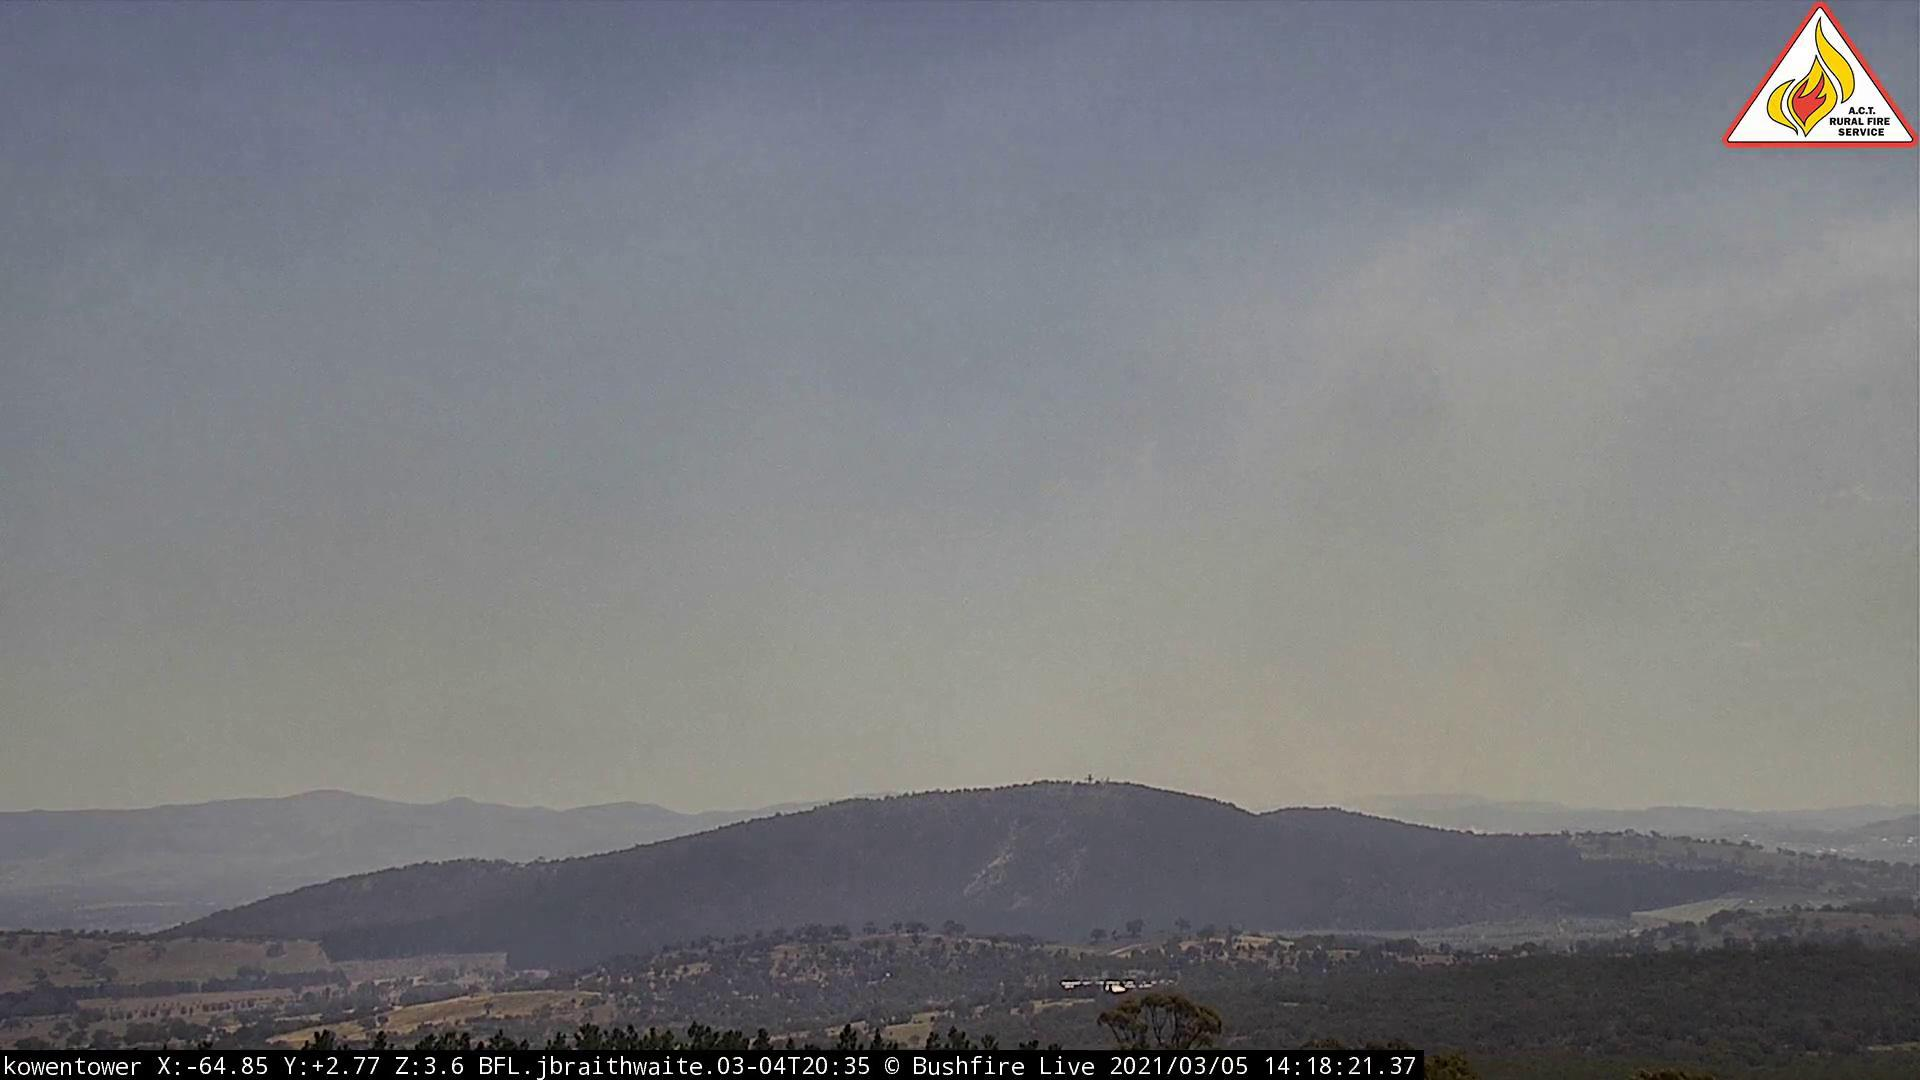Smoke: (1247, 438, 1763, 841)
